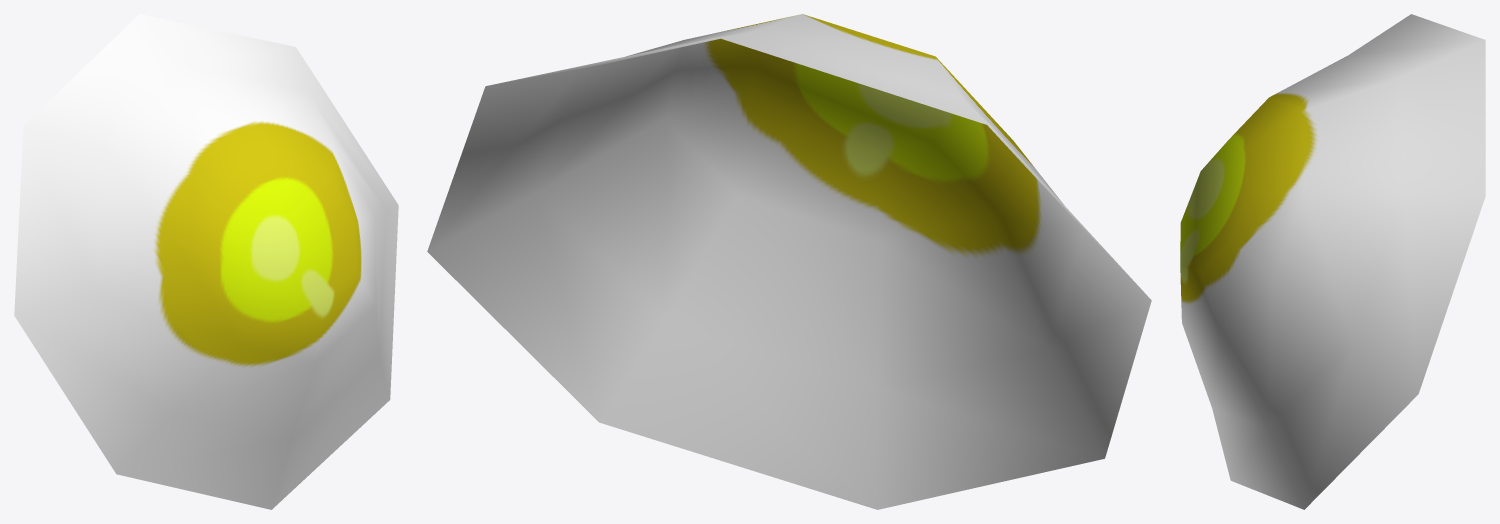
The model's file is M_EnemyGhost_1_LeftEye.fbx.
3 renders of one model, left to right at view 1: azimuth 30°, elevation 25°; view 2: azimuth 150°, elevation 25°; view 3: azimuth 270°, elevation 25°, orthographic. The views are drawn at different scales.
Visible parts, largest first — view 1: M_EnemyGhost_1_LeftEye; view 2: M_EnemyGhost_1_LeftEye; view 3: M_EnemyGhost_1_LeftEye.
Part boxes in pixels (x1=…): M_EnemyGhost_1_LeftEye: x1=14, y1=14, x2=398, y2=509; M_EnemyGhost_1_LeftEye: x1=427, y1=14, x2=1151, y2=509; M_EnemyGhost_1_LeftEye: x1=1180, y1=14, x2=1485, y2=509.
Bounding box in the file's own units: 63.92 × 57.37 × 36.54.
